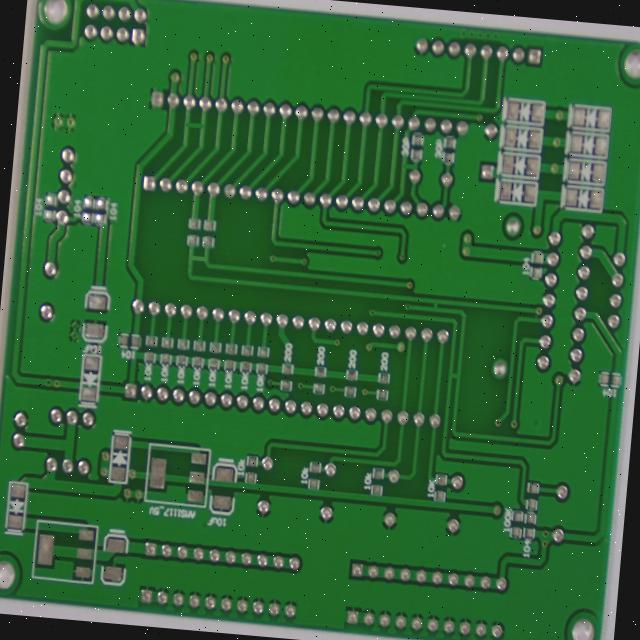short: (194, 289, 226, 312), (192, 135, 222, 158), (429, 179, 455, 204), (478, 421, 500, 444), (459, 339, 479, 360)
